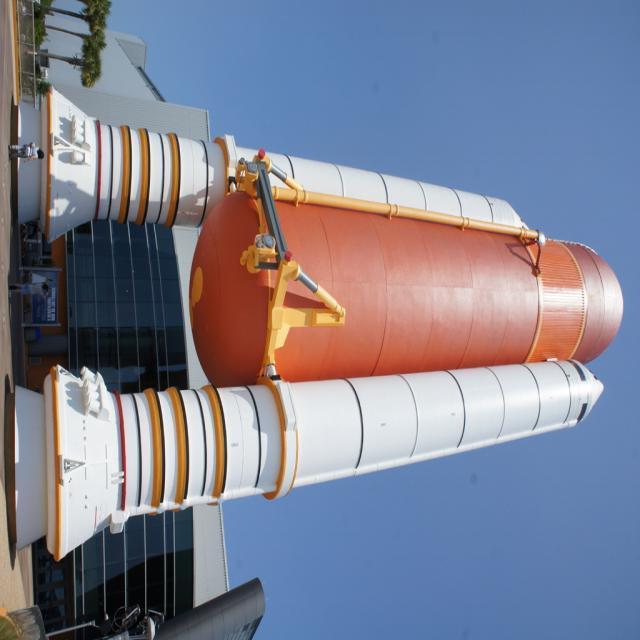Missile: (43, 354, 605, 559)
